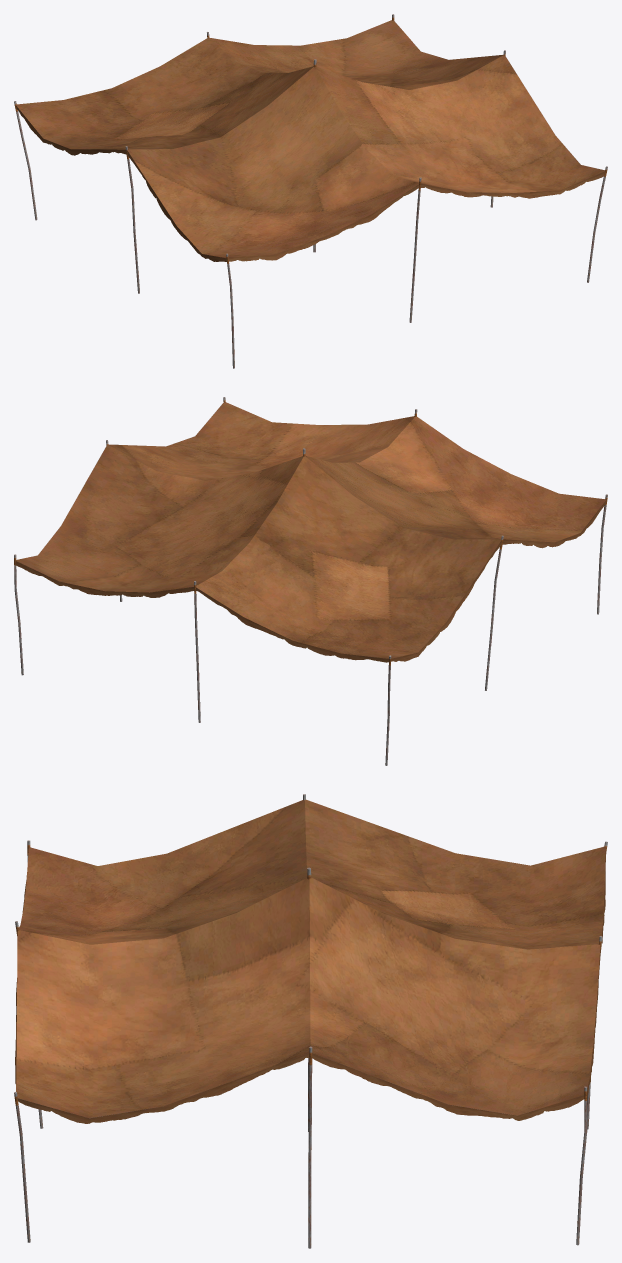
File: thm_tato_jawa_tent_large_l0.fbx
3 views of the same model, one above another, from view 1: azimuth 30°, elevation 25°; view 2: azimuth 150°, elevation 25°; view 3: azimuth 270°, elevation 25° (orthographic). The views are drawn at different scales.
Visible parts, largest first — view 1: mesh_node; view 2: mesh_node; view 3: mesh_node.
Boxes of the visible parts, <box> form: mesh_node: <box>14,14,607,368</box>; mesh_node: <box>14,397,607,765</box>; mesh_node: <box>14,794,607,1248</box>.
Bounding box in the file's own units: 10.9 × 5.21 × 10.65.
